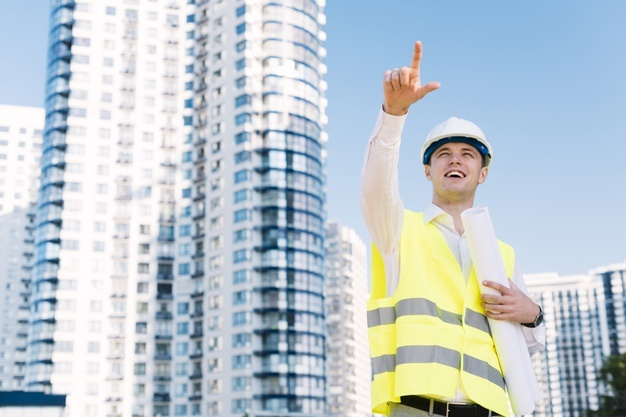helmet: (422, 118, 494, 162)
person with full safety: (354, 75, 541, 417)
safety vest: (366, 209, 521, 413)
